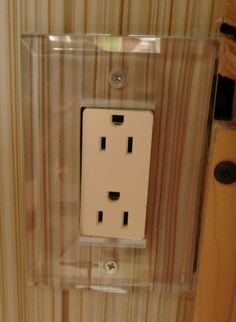outlet: (97, 111, 137, 157), (94, 187, 135, 230)
